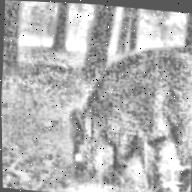boar: (59, 33, 192, 192)
